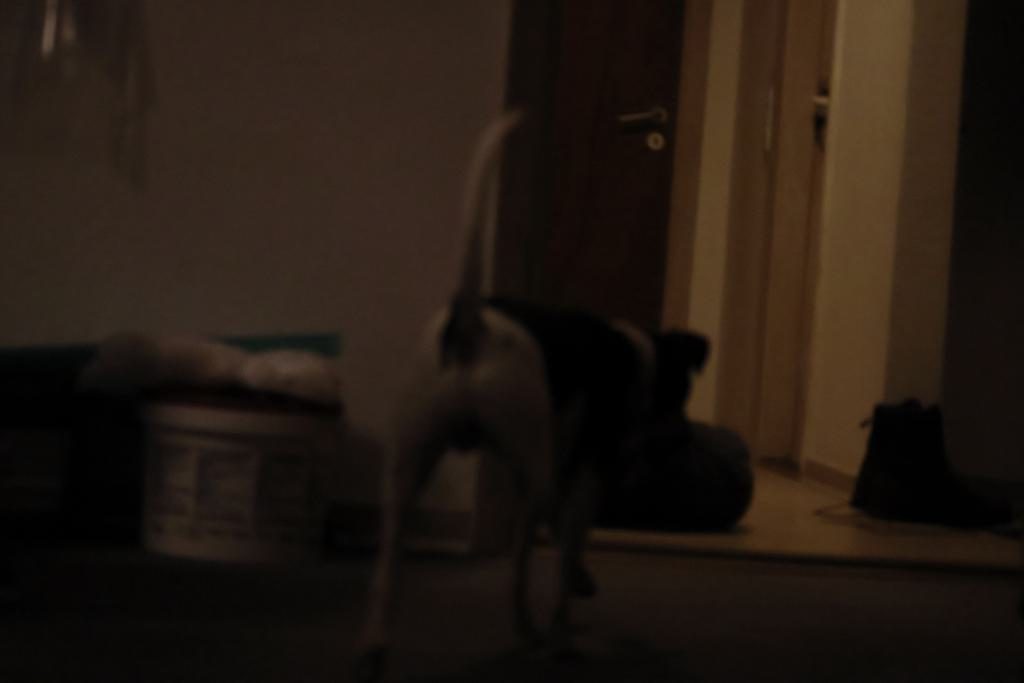Dog: (342, 102, 722, 683)
